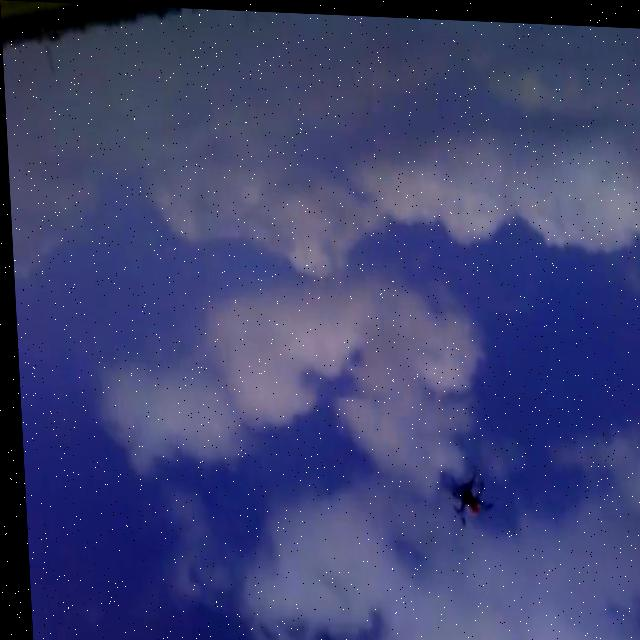drone: (441, 465, 494, 531)
